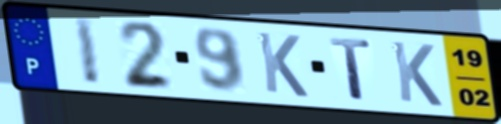2: (114, 19, 176, 91)
9: (192, 26, 248, 96)
I: (70, 15, 104, 86)
K: (254, 29, 311, 100), (388, 38, 445, 109)
T: (327, 35, 375, 103)
